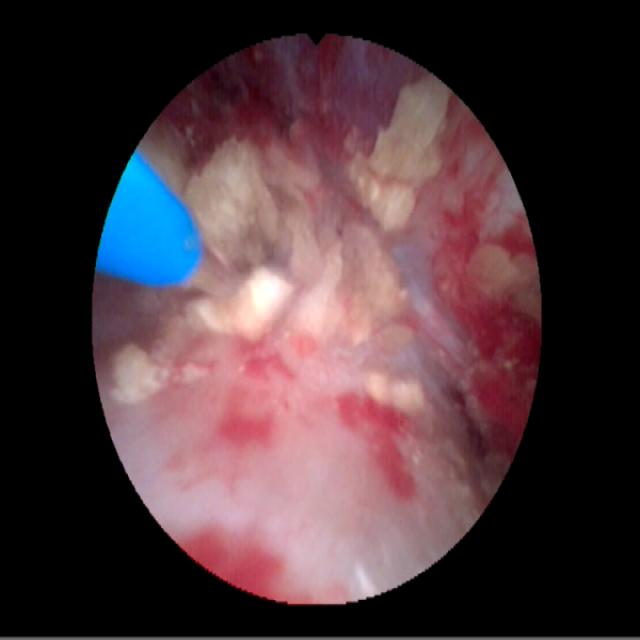fiber: (99, 158, 197, 284)
stone: (143, 139, 408, 347), (344, 78, 447, 229), (187, 269, 292, 342), (470, 248, 535, 314), (113, 341, 173, 405), (369, 372, 426, 414)
